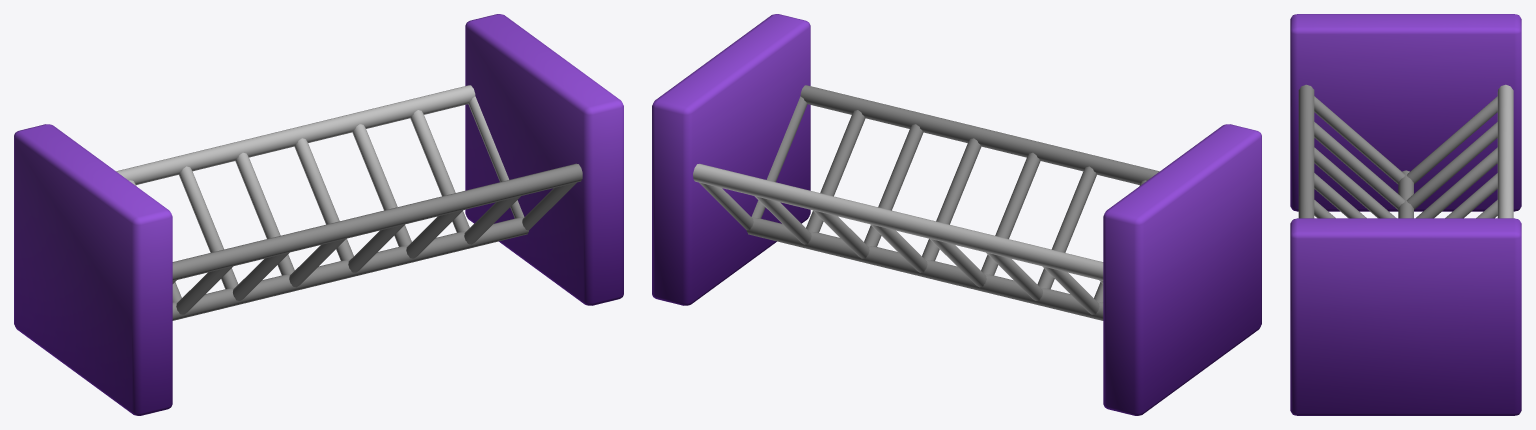
Rendered from Dish Rack_1.fbx.
The picture shows the model from 3 angles, left to right: view 1: azimuth 30°, elevation 25°; view 2: azimuth 150°, elevation 25°; view 3: azimuth 270°, elevation 25°; orthographic projection. The views are drawn at different scales.
Visible parts, largest first — view 1: Dish Rack_1; view 2: Dish Rack_1; view 3: Dish Rack_1.
Boxes of the visible parts, x1=… form: Dish Rack_1: x1=14, y1=14, x2=623, y2=415; Dish Rack_1: x1=652, y1=14, x2=1261, y2=415; Dish Rack_1: x1=1290, y1=14, x2=1521, y2=415.
Bounding box in the file's own units: 0.701 × 0.2707 × 0.3086.
